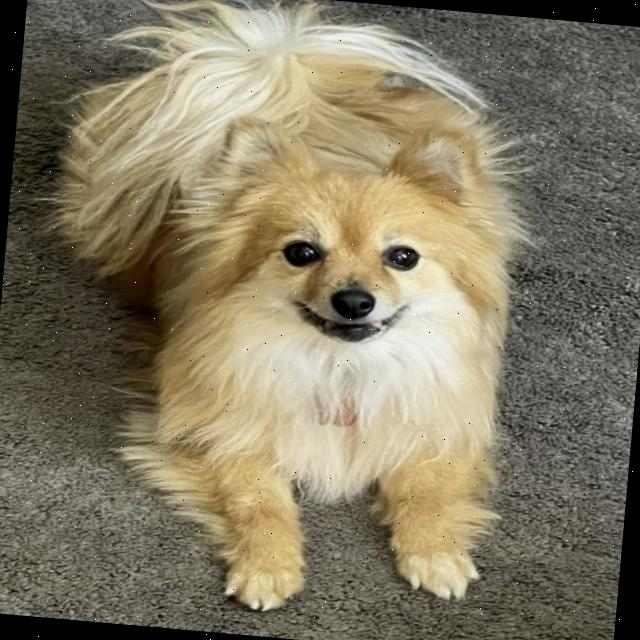pomeranian_dog: (162, 90, 534, 438)
